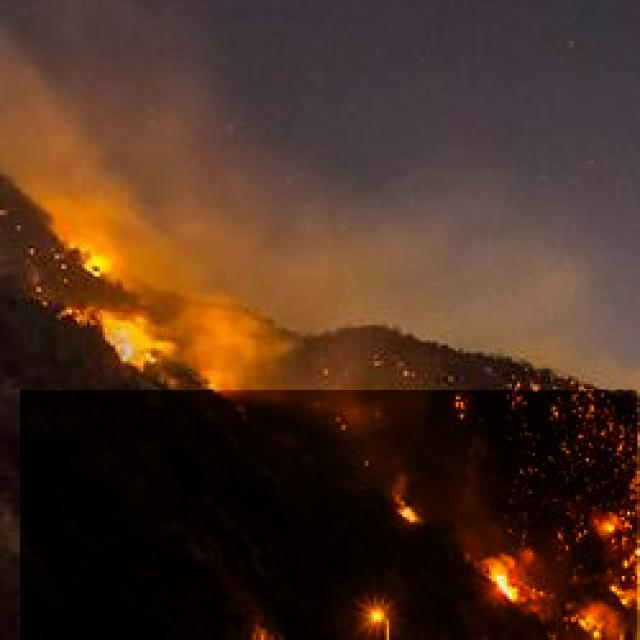Fire: (20, 235, 637, 640)
Smoke: (0, 0, 640, 390)
